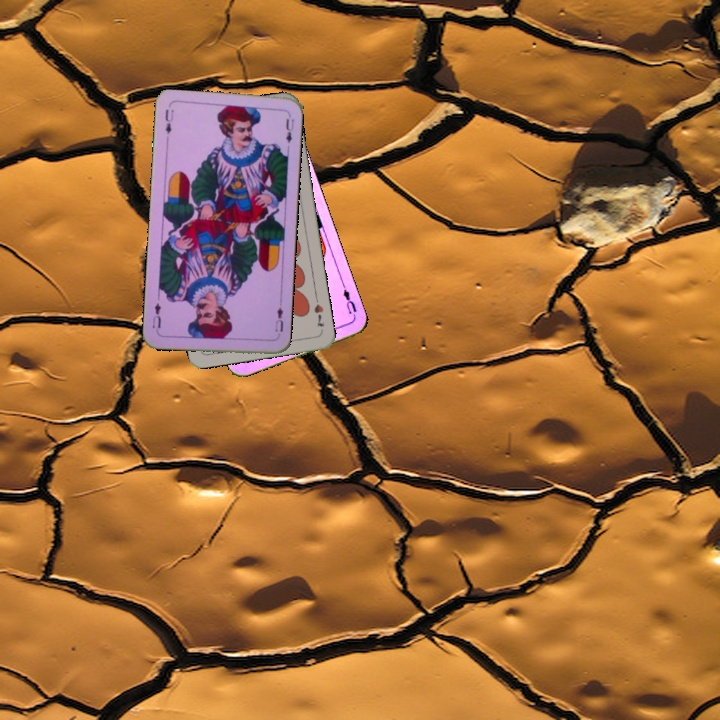EU: (339, 281, 359, 316), (271, 303, 286, 340), (161, 105, 176, 137)
H7: (310, 293, 327, 329)
